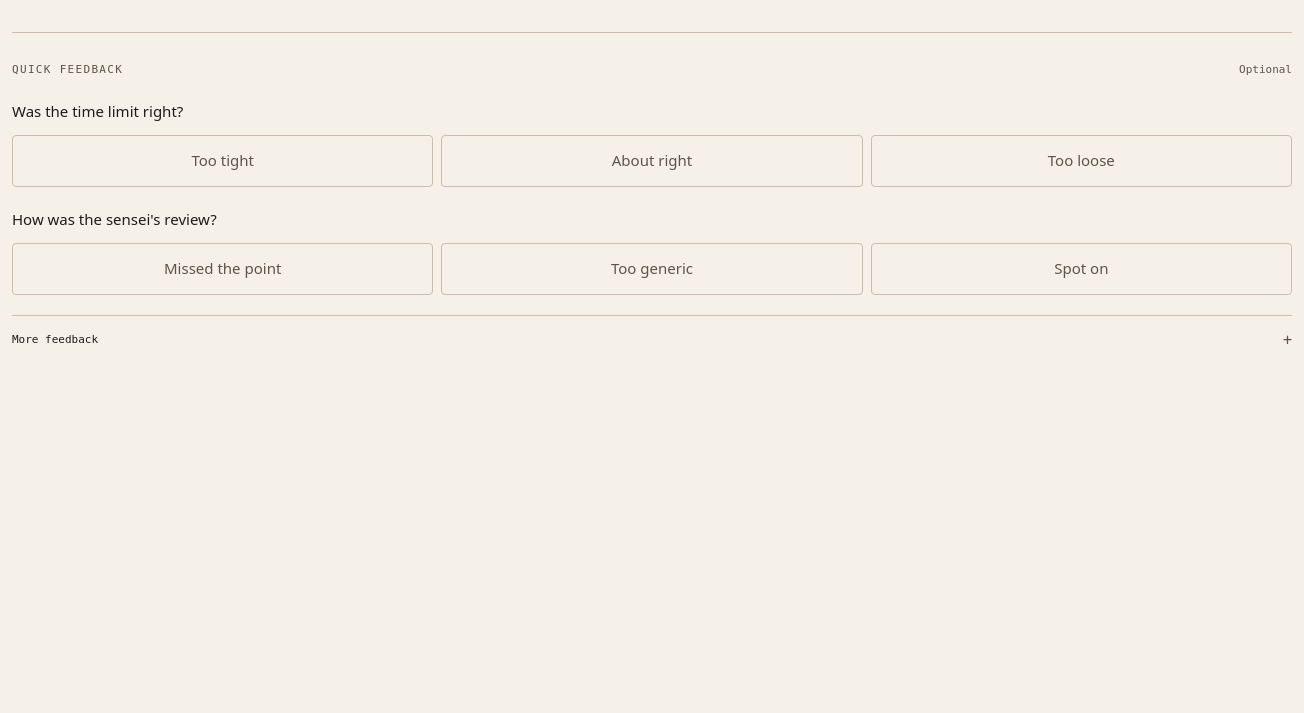
Test: FeedbackSection › counts the note, and treats an edited note as unsent again
The width and height of the screenshot is (1304, 713).
Click the text "More feedback".
click(55, 340)  # box [12,332,98,348]
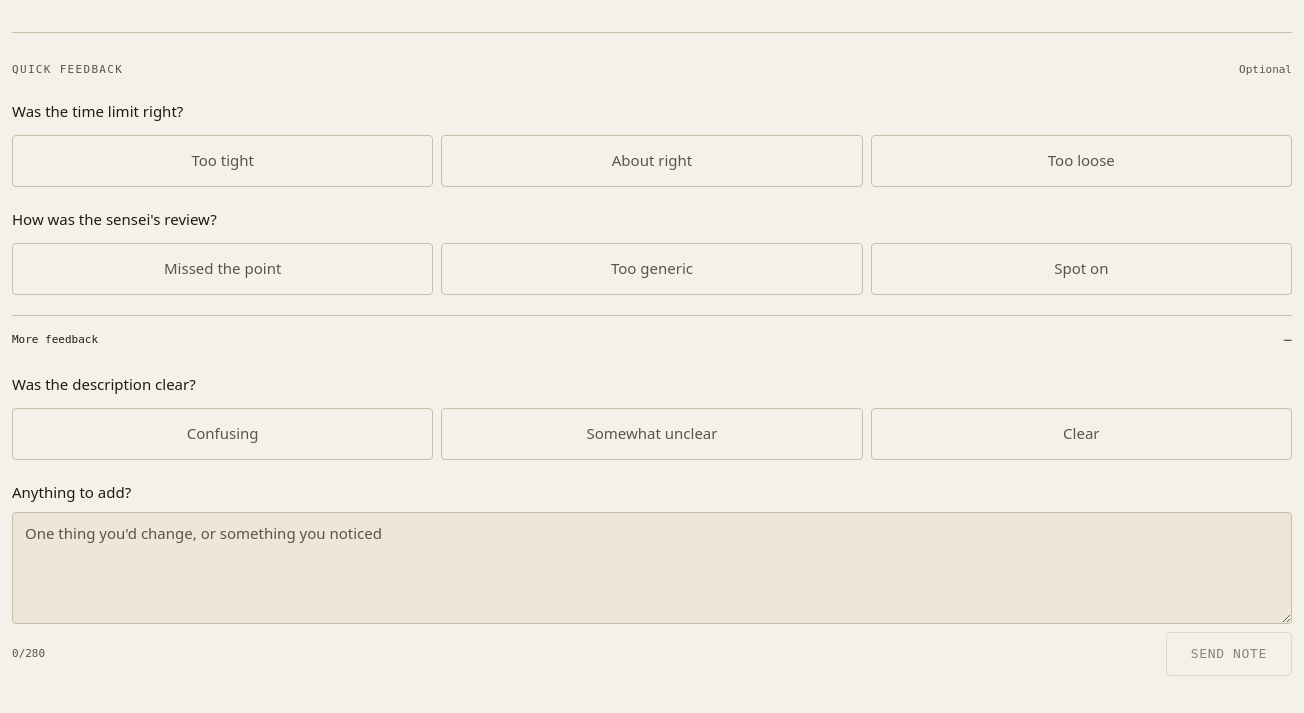
Type "short" into the text box labelled "Anything to add?".
click(652, 568); type("short")  # box [12,512,1292,624]
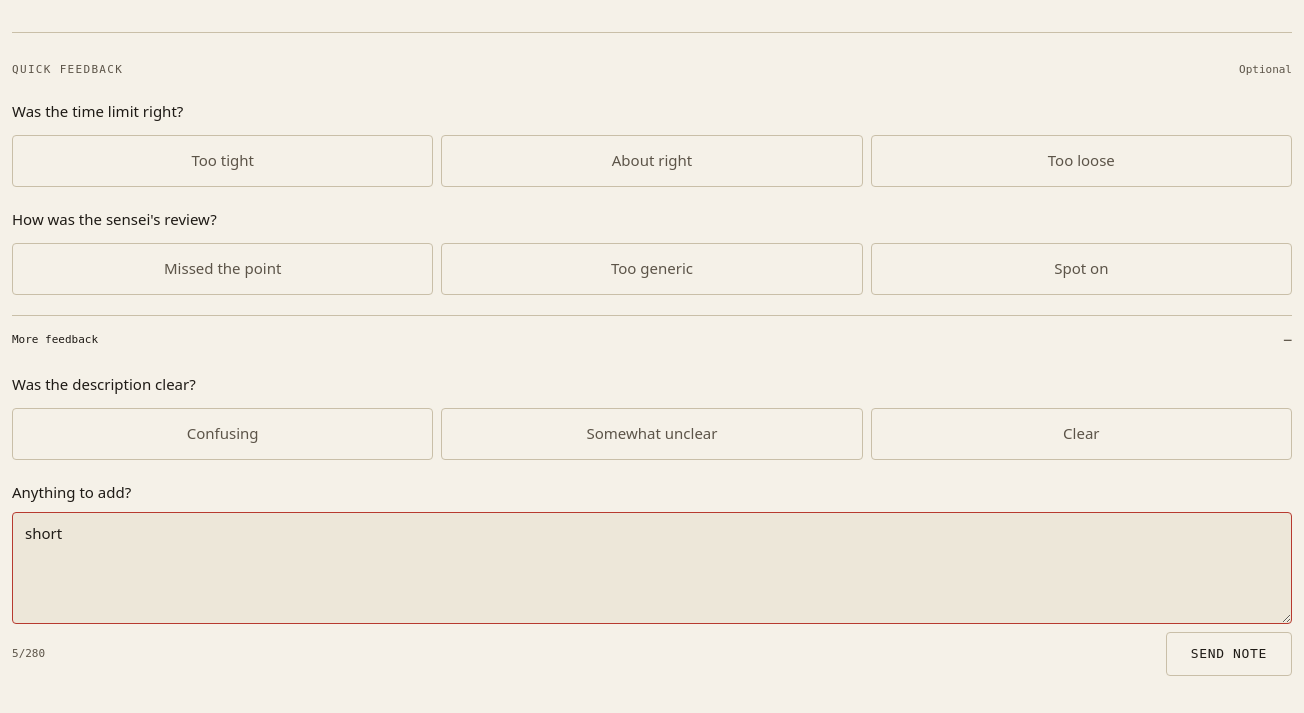
Result: the text "5/280" is shown at [12,645,45,662]
Click the button "Send note".
click(1229, 654)  # box [1166,632,1292,676]
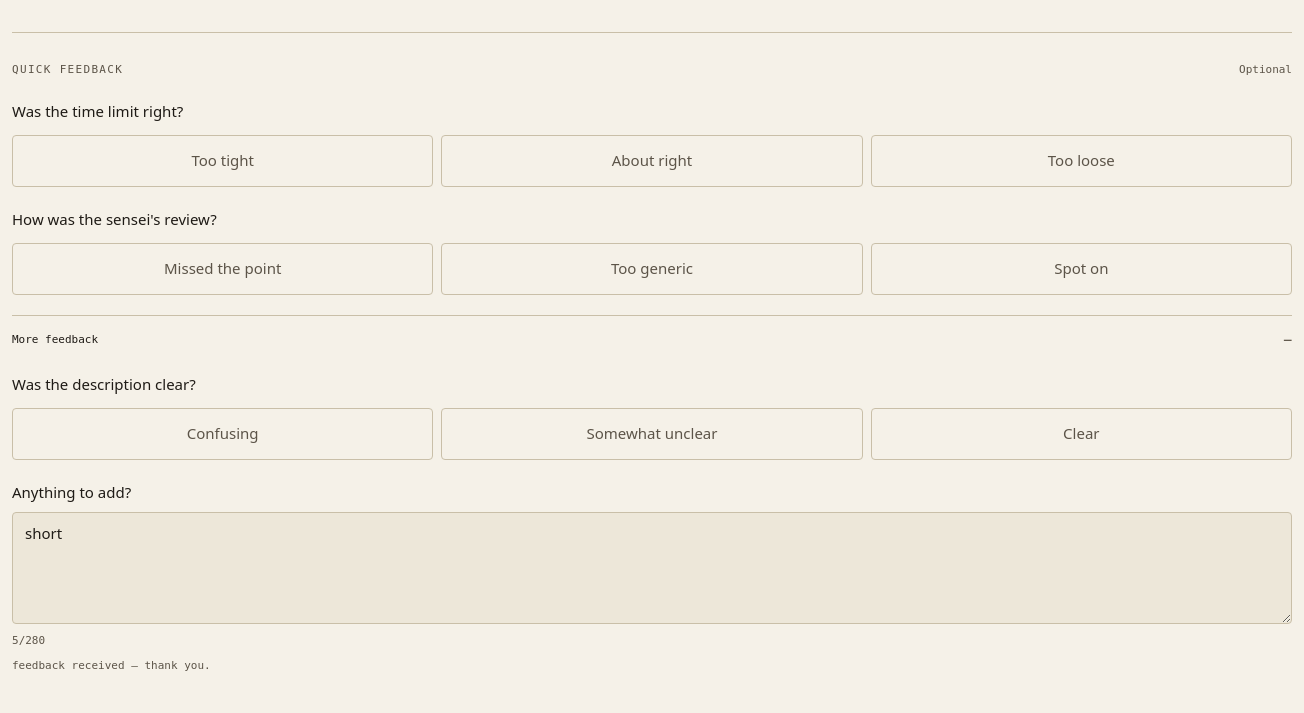
Result: the text "feedback received — thank you." is shown at [12,659,211,672]
Type "er" into the text box labelled "Anything to add?".
click(652, 568); type("er")  # box [12,512,1292,624]
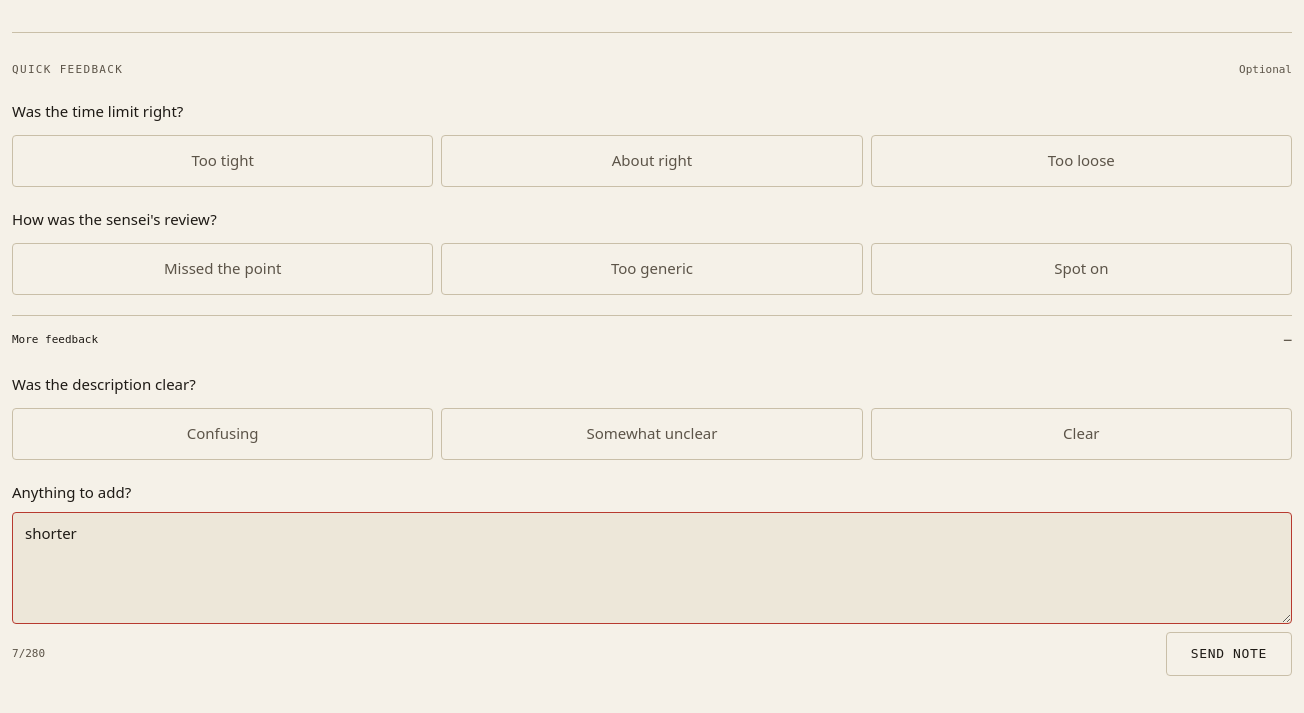
Result: the text "feedback received — thank you." is gone
Result: the button "Send note" is enabled at [1166,632,1292,676]
